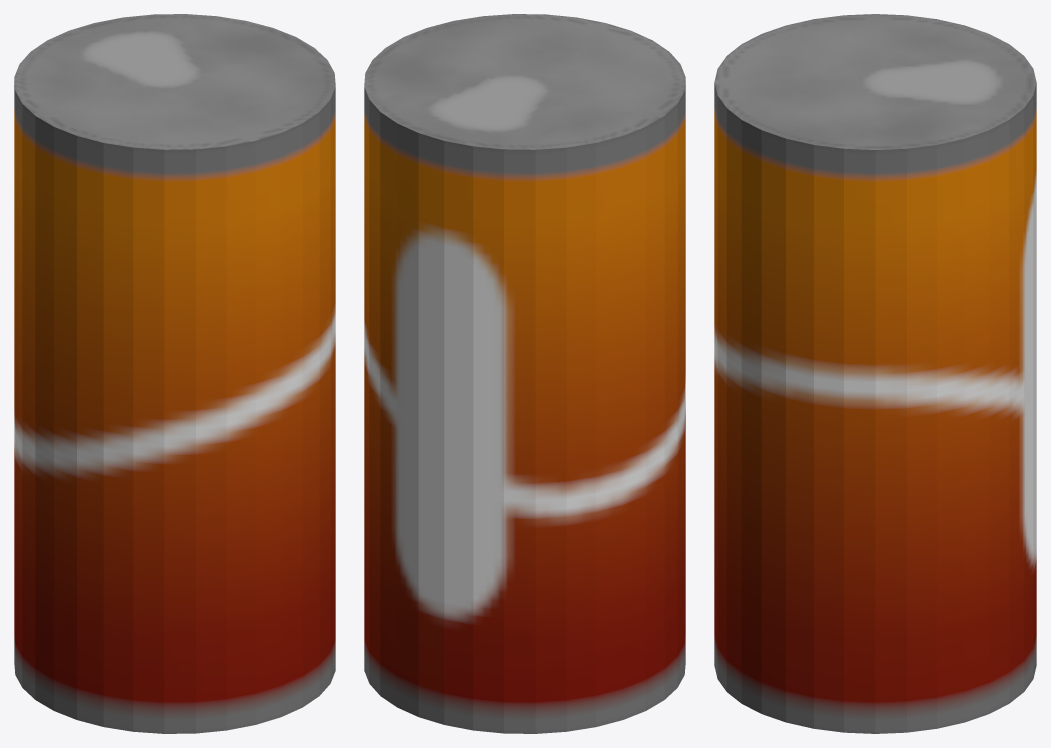
Rendered from soda.fbx.
The picture shows the model from 3 angles, left to right: view 1: azimuth 30°, elevation 25°; view 2: azimuth 150°, elevation 25°; view 3: azimuth 270°, elevation 25°; orthographic projection.
Visible parts, largest first — view 1: Cylinder; view 2: Cylinder; view 3: Cylinder.
Part boxes in pixels (<box>): Cylinder: <box>14,14,335,733</box>; Cylinder: <box>364,14,685,733</box>; Cylinder: <box>714,14,1036,733</box>.
Size of the model in its own units: 2 by 4 by 2.
